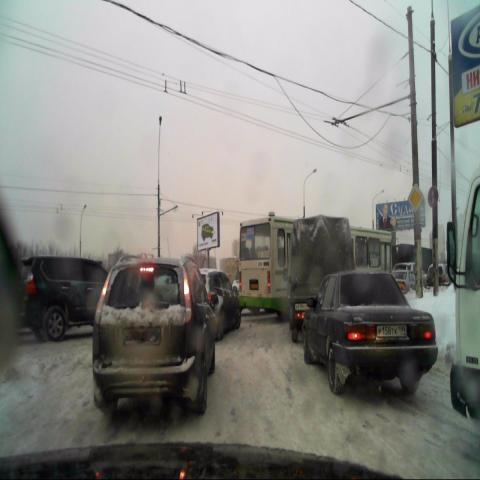3_29: (426, 185, 440, 208)
